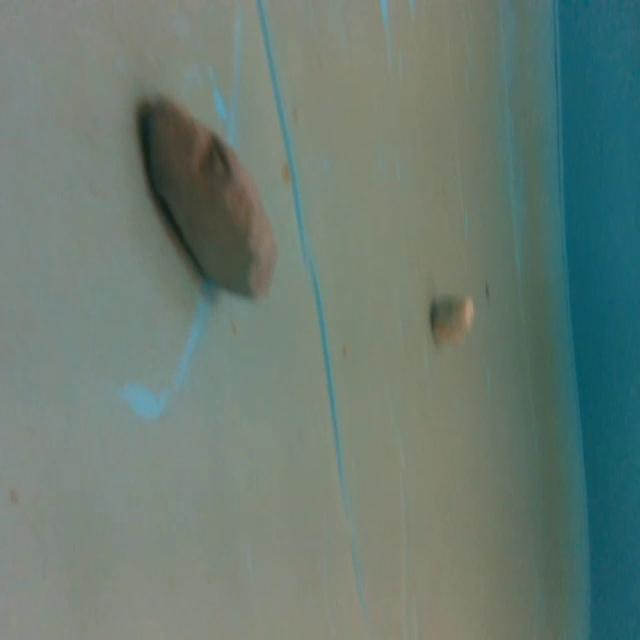rock: (137, 85, 289, 304), (426, 292, 479, 352)
